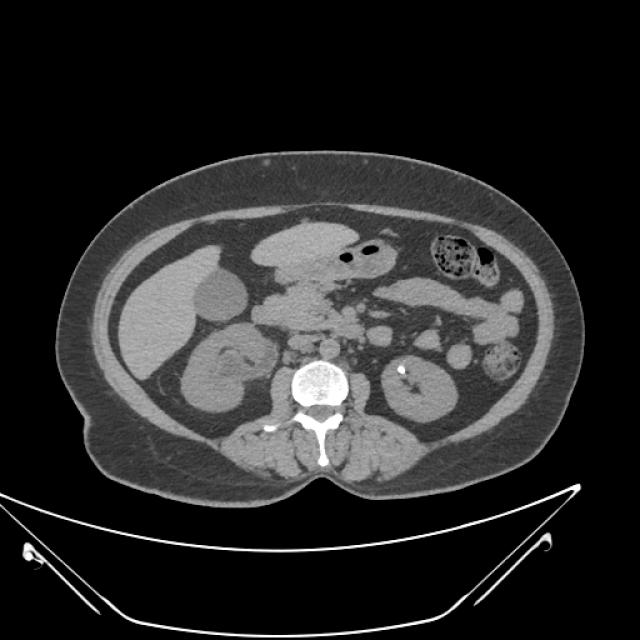kidney: (185, 323, 279, 410), (386, 353, 462, 421)
stone: (396, 366, 407, 376)
